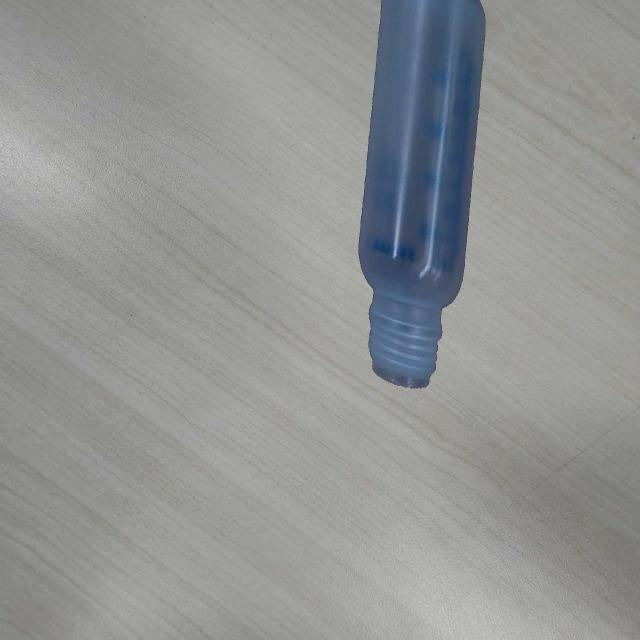bottle: (356, 0, 487, 389)
